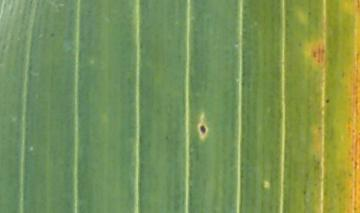tarspot: (199, 124, 208, 135), (324, 97, 331, 104)
